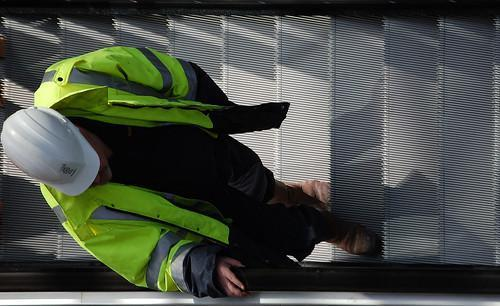vest: (32, 42, 233, 297)
